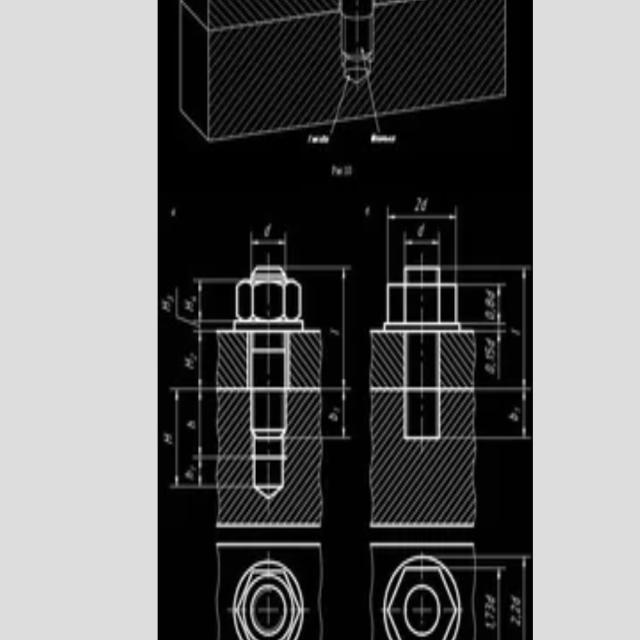marking_line: (478, 266, 531, 441), (169, 386, 216, 491), (324, 267, 351, 444), (478, 555, 531, 640), (387, 207, 460, 266), (321, 268, 346, 389), (460, 278, 506, 327), (479, 564, 508, 638), (193, 277, 233, 325), (192, 389, 217, 462), (478, 324, 506, 380), (402, 231, 445, 265), (250, 231, 288, 267), (194, 331, 214, 391)
